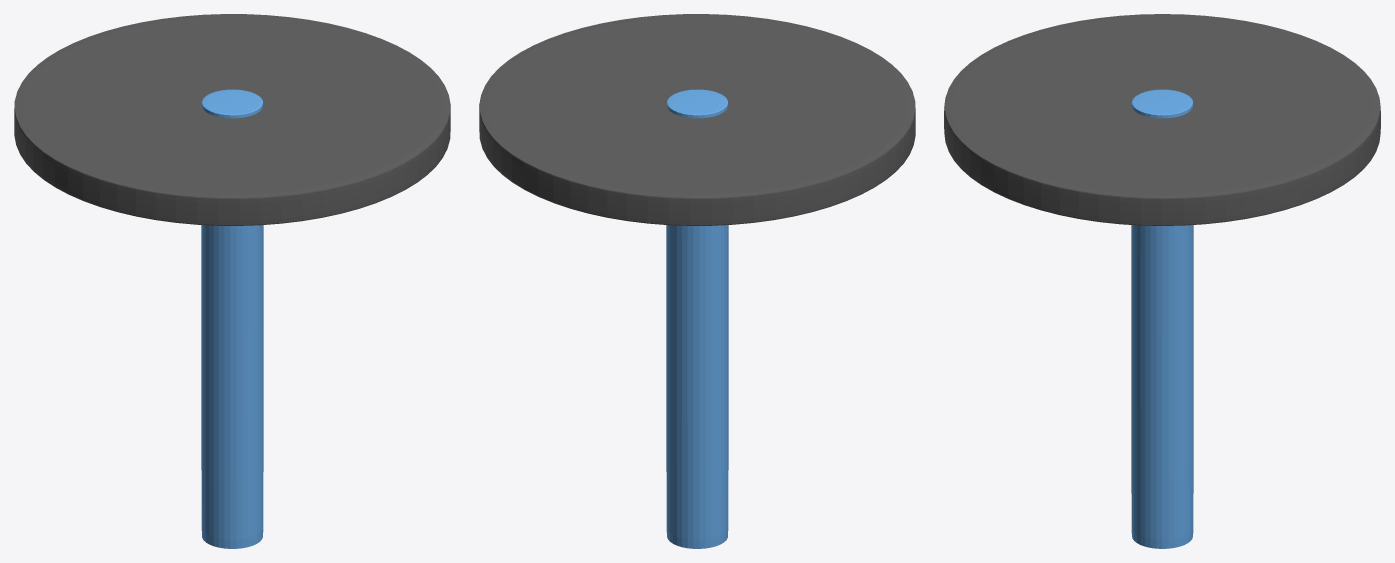
File: PGK_Spinner_StandOn_LOD0.fbx
3 renders of one model, left to right at view 1: azimuth 30°, elevation 25°; view 2: azimuth 150°, elevation 25°; view 3: azimuth 270°, elevation 25°, orthographic.
Visible parts, largest first — view 1: Disk, Pole; view 2: Disk, Pole; view 3: Disk, Pole.
Boxes of the visible parts, bbox=[...] form: Disk: bbox=[14, 14, 450, 225]; Pole: bbox=[201, 89, 263, 548]; Disk: bbox=[479, 14, 915, 225]; Pole: bbox=[666, 89, 728, 548]; Disk: bbox=[944, 14, 1380, 225]; Pole: bbox=[1131, 89, 1193, 548].
Size of the model in its own units: 1.09 by 1.2 by 1.09.
